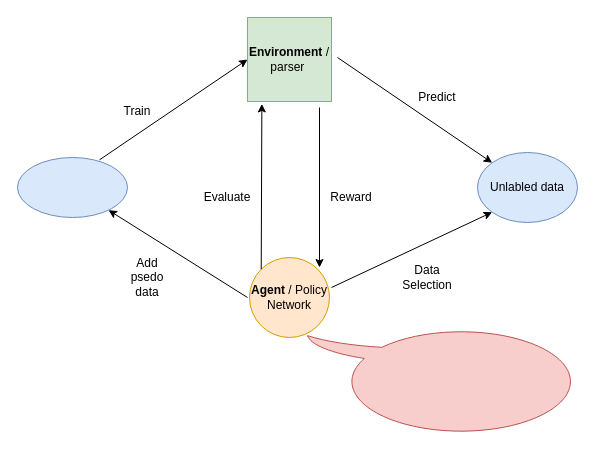
Some shapes in this 601 by 455 pixel diagram are drawn without their labels. The shapes that lost their labels are listed below. From the top down, each one's centre as x and y in pixels, then its label:
the point at 72,187: Labeled data
the point at 445,382: 根据reward，我要进行action的调整
